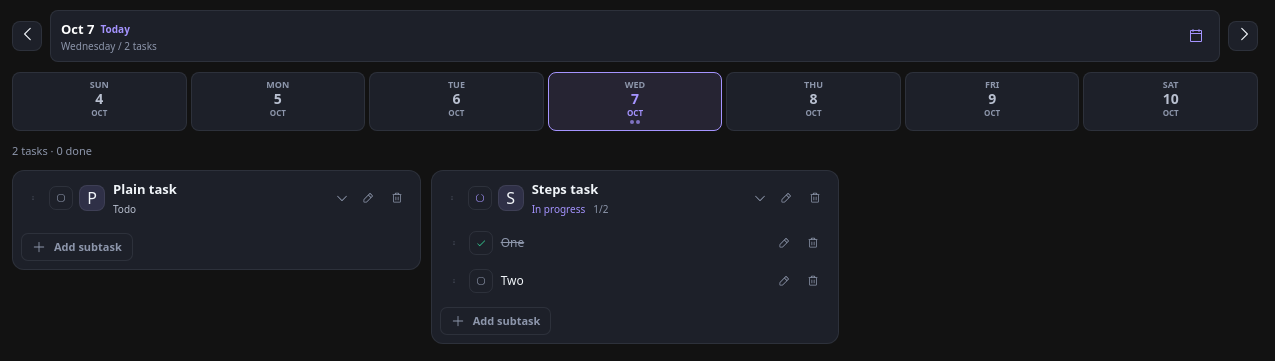
it: the status of a task and its subtasks › the box in front of a subtask › counts toward the progress shown on the card
The image size is (1275, 361).
expect the text "1/2" is shown: met, box [593, 202, 608, 216]
Click the button with test id "subtask-status-two".
click(481, 280)  # box [469, 268, 493, 292]
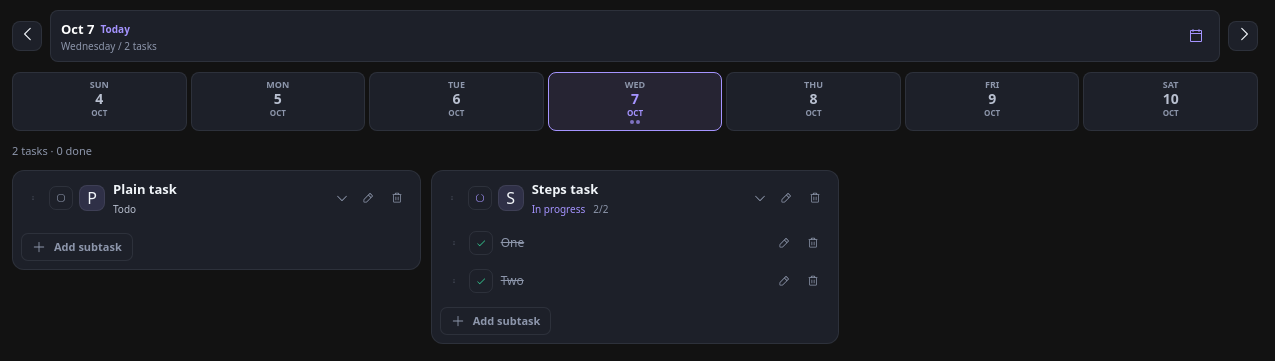
expect the text "2/2" is shown: met, box [593, 202, 608, 216]
